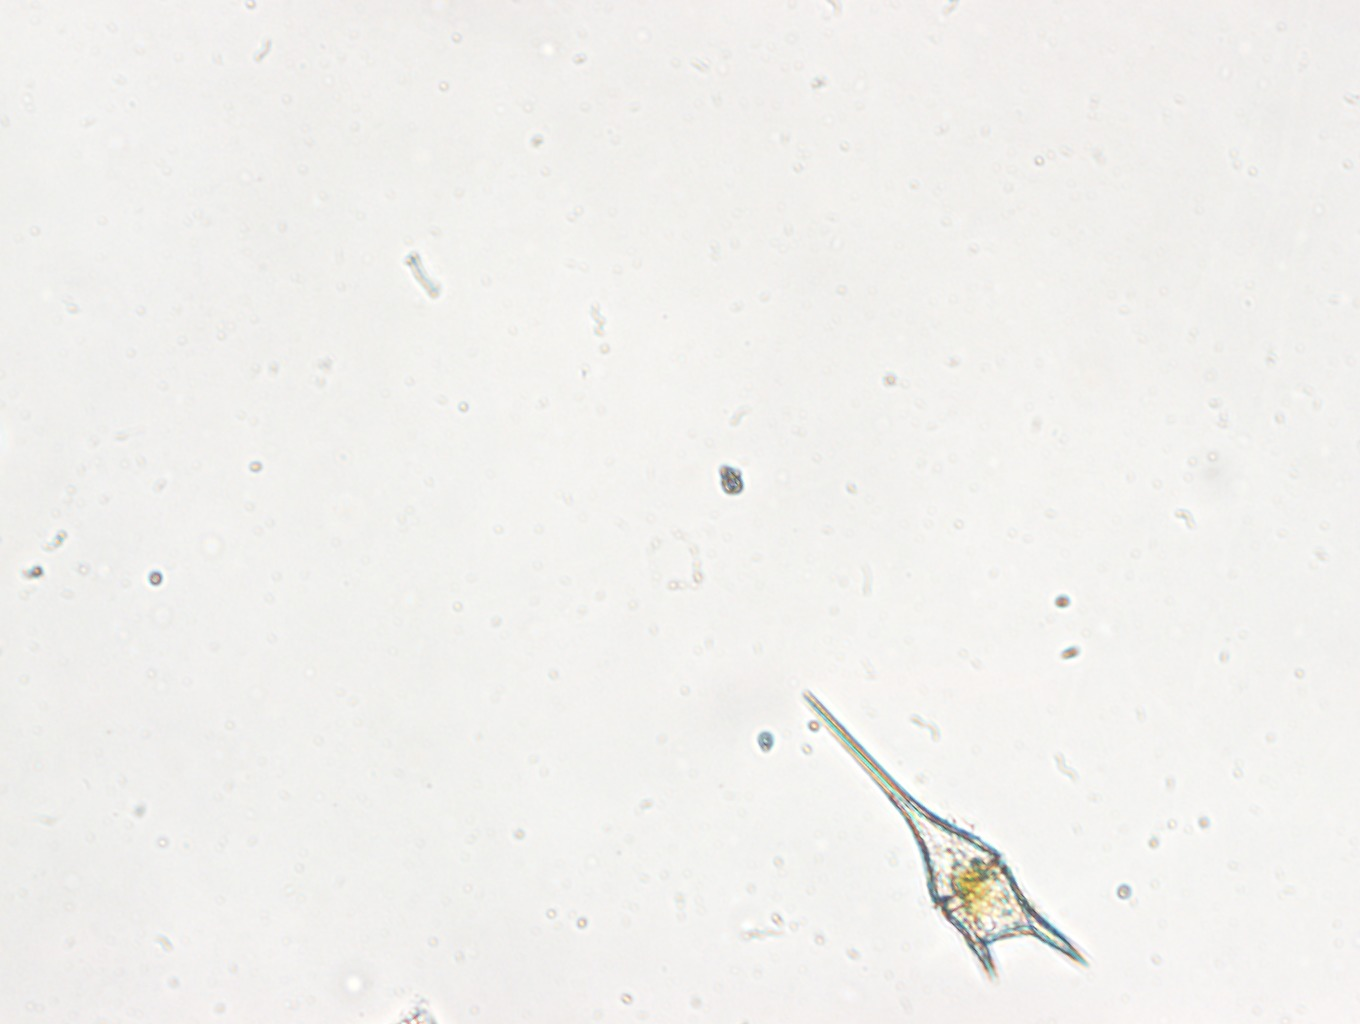ceratium furca: (799, 680, 1093, 973)
